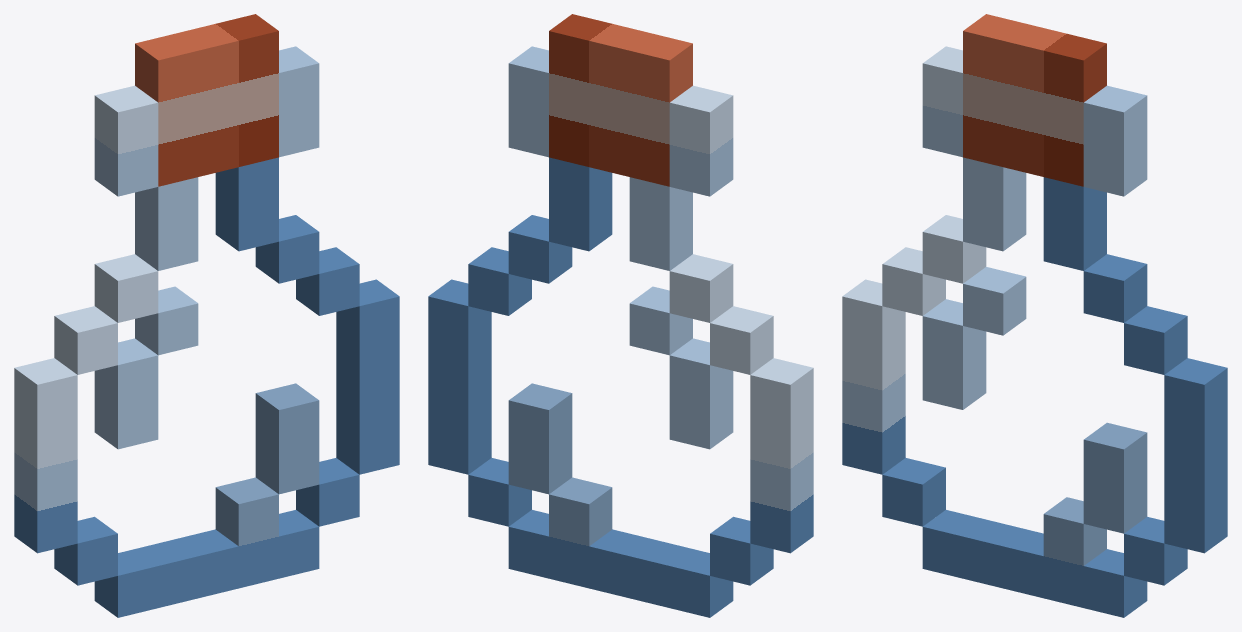
The model's file is potion.fbx.
The picture shows the model from 3 angles, left to right: view 1: azimuth 30°, elevation 25°; view 2: azimuth 150°, elevation 25°; view 3: azimuth 330°, elevation 25°; orthographic projection.
Visible parts, largest first — view 1: potion; view 2: potion; view 3: potion.
Boxes of the visible parts, box(x1,y1,x2,y2) form: potion: box(14, 14, 399, 617); potion: box(428, 14, 813, 617); potion: box(842, 14, 1227, 617).
Bounding box in the file's own units: 56.25 × 81.25 × 6.25.
Materials: 1 (1 with a texture image).
